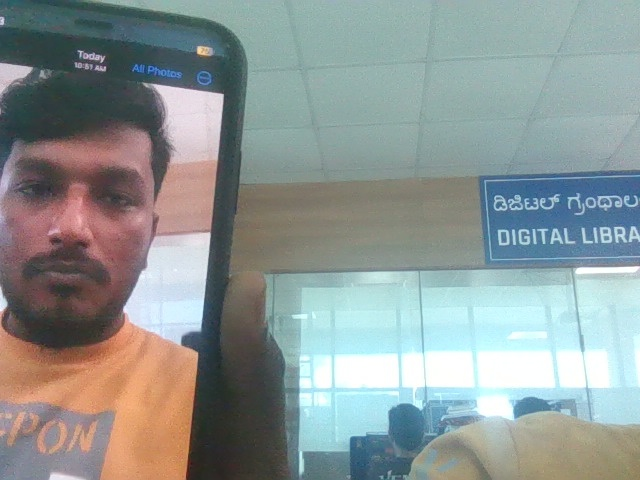fake: (0, 28, 231, 356)
